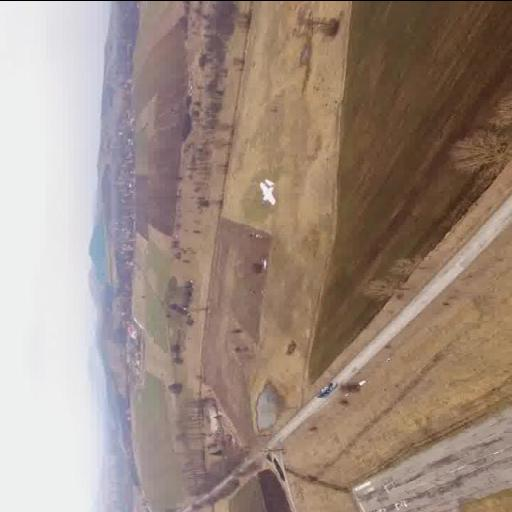uav: (256, 174, 290, 218)
